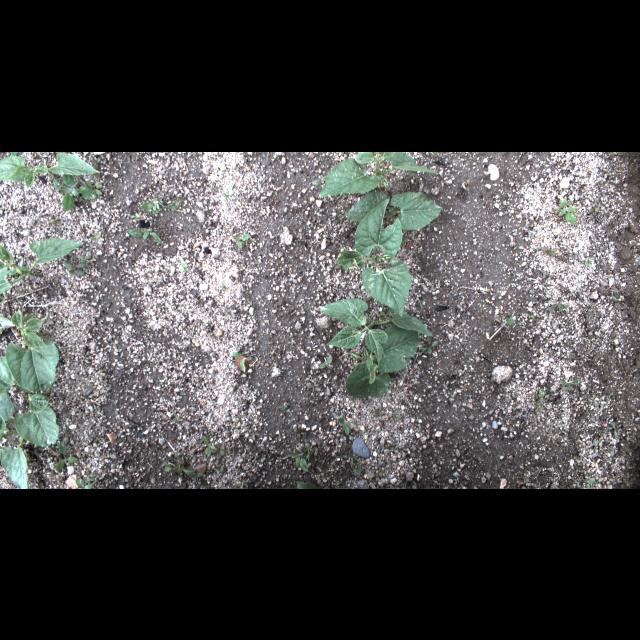crop: (336, 196, 412, 316), (320, 298, 434, 364), (0, 356, 60, 446), (319, 151, 441, 195), (345, 326, 419, 398), (1, 236, 88, 296), (1, 308, 59, 392), (346, 189, 442, 229), (0, 152, 101, 188), (0, 393, 28, 489)
weed: (54, 173, 88, 211), (164, 451, 203, 477), (136, 196, 184, 214), (54, 440, 80, 472), (284, 444, 312, 472), (552, 196, 580, 224), (128, 227, 164, 243), (83, 179, 103, 199), (62, 259, 86, 275), (230, 352, 248, 372), (203, 436, 219, 458), (548, 296, 570, 312), (338, 417, 356, 435), (421, 336, 439, 354), (234, 233, 250, 251), (534, 389, 546, 413), (74, 478, 98, 488), (603, 277, 619, 291), (561, 380, 583, 390), (297, 480, 321, 488), (608, 422, 618, 441), (90, 230, 104, 243), (319, 356, 333, 368), (352, 460, 362, 476), (500, 316, 516, 326), (313, 173, 327, 184), (75, 254, 93, 262), (222, 188, 234, 200), (294, 425, 304, 439), (542, 246, 556, 256), (373, 407, 385, 418), (381, 310, 392, 322), (411, 172, 422, 184), (212, 446, 225, 456), (92, 155, 102, 167), (584, 478, 596, 488), (586, 205, 602, 212), (170, 413, 180, 423), (417, 297, 427, 307), (530, 314, 540, 324), (584, 256, 594, 266), (218, 457, 225, 471), (130, 213, 142, 221), (378, 466, 387, 476), (392, 412, 401, 422), (592, 439, 598, 453), (179, 260, 187, 270), (280, 402, 290, 410), (526, 368, 534, 376), (87, 474, 95, 481), (466, 178, 470, 190), (10, 151, 18, 155), (557, 423, 565, 427)
